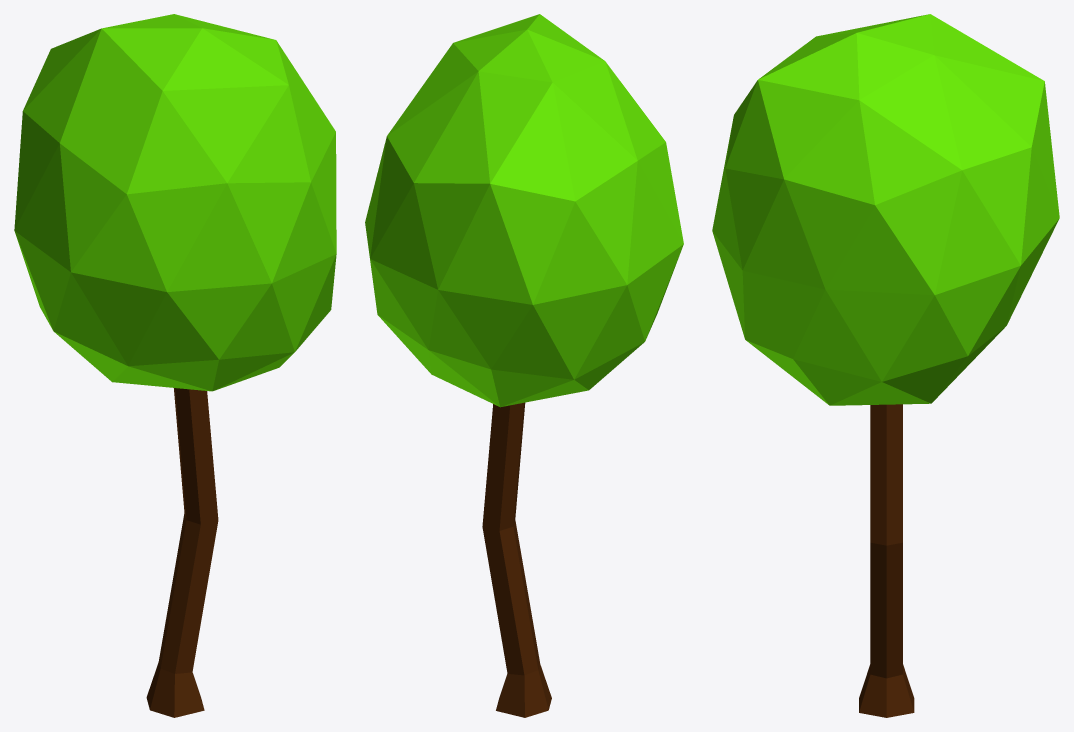
Rendered from Low_poly_tree.glb.
The picture shows the model from 3 angles, left to right: view 1: azimuth 30°, elevation 25°; view 2: azimuth 150°, elevation 25°; view 3: azimuth 270°, elevation 25°; orthographic projection. The views are drawn at different scales.
Parts seen in each view (by area): view 1: Low poly tree; view 2: Low poly tree; view 3: Low poly tree.
Part boxes in pixels (bbox=[...]): Low poly tree: bbox=[14, 14, 336, 717]; Low poly tree: bbox=[365, 14, 683, 717]; Low poly tree: bbox=[712, 14, 1059, 717].
Size of the model in its own units: 2.12 by 5.04 by 2.34.
